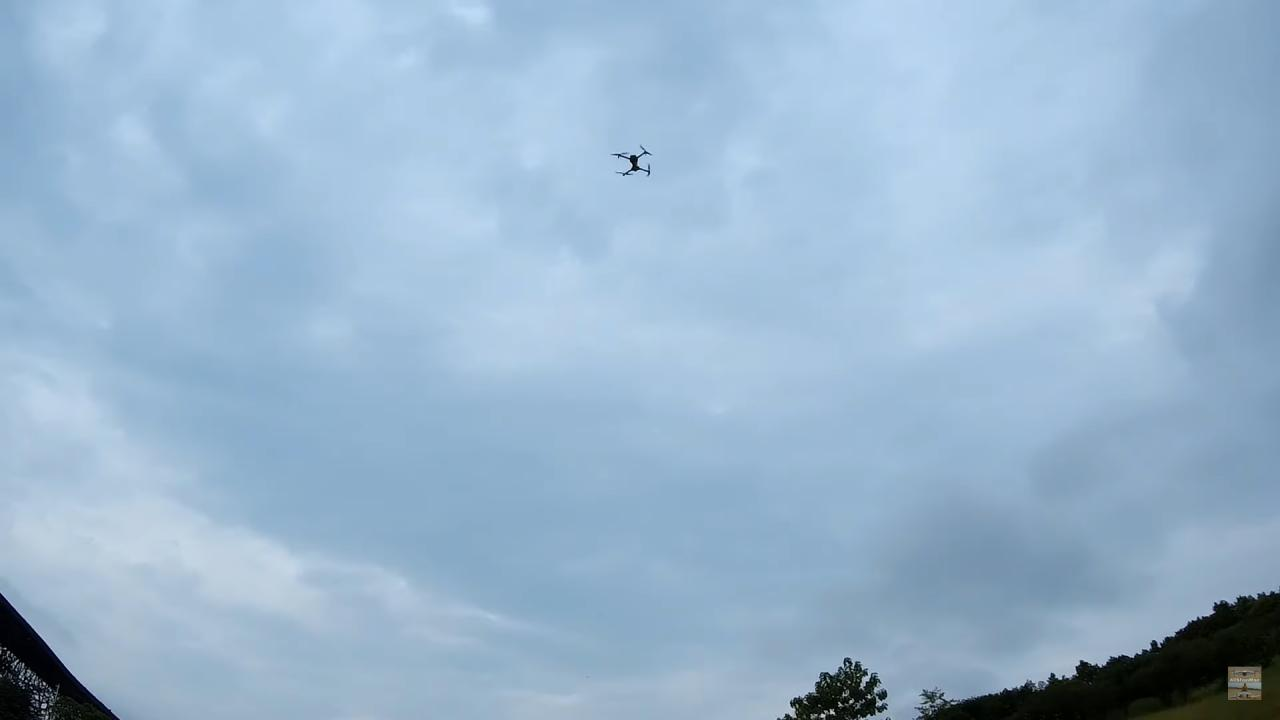Drone: (596, 137, 664, 188)
